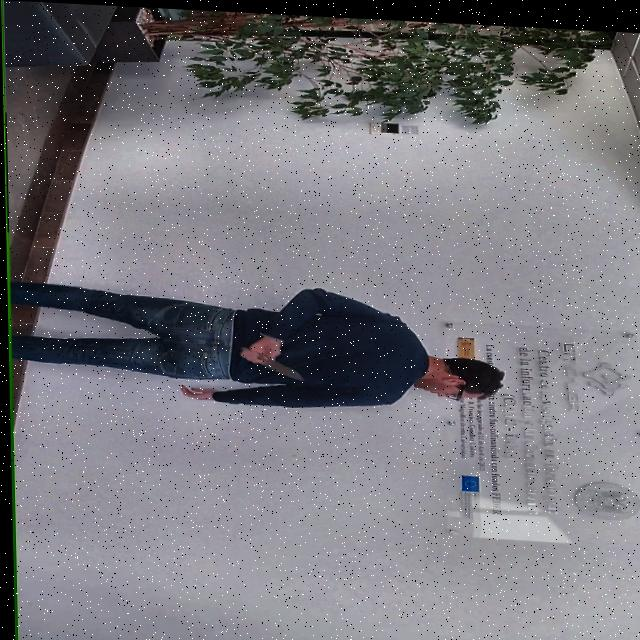knife: (261, 356, 303, 378)
